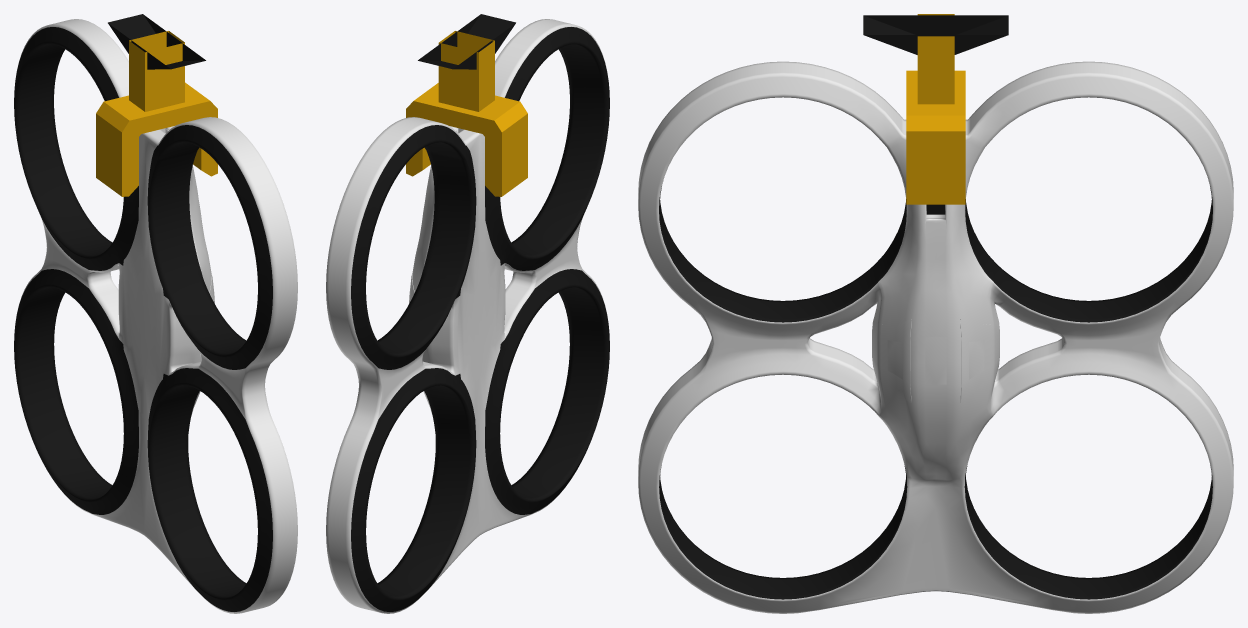
File: DroneLine1.glb
3 renders of one model, left to right at view 1: azimuth 30°, elevation 25°; view 2: azimuth 150°, elevation 25°; view 3: azimuth 270°, elevation 25°, orthographic. The views are drawn at different scales.
Visible parts, largest first — view 1: PropFL.003, Cube.002; view 2: PropFL.003, Cube.002; view 3: PropFL.003, Cube.002.
Part boxes in pixels (<box>): PropFL.003: <box>14,19,297,613</box>; Cube.002: <box>96,14,217,196</box>; PropFL.003: <box>326,19,609,613</box>; Cube.002: <box>406,14,527,196</box>; PropFL.003: <box>638,61,1233,613</box>; Cube.002: <box>863,14,1008,204</box>.
Bounding box in the file's own units: 0.2495 × 1.26 × 1.16.
